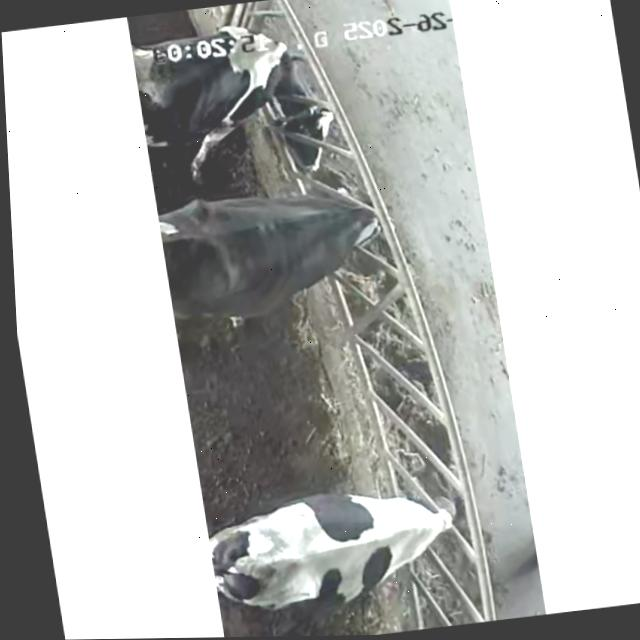eat: (186, 9, 396, 183), (355, 457, 523, 574), (265, 166, 428, 276)
